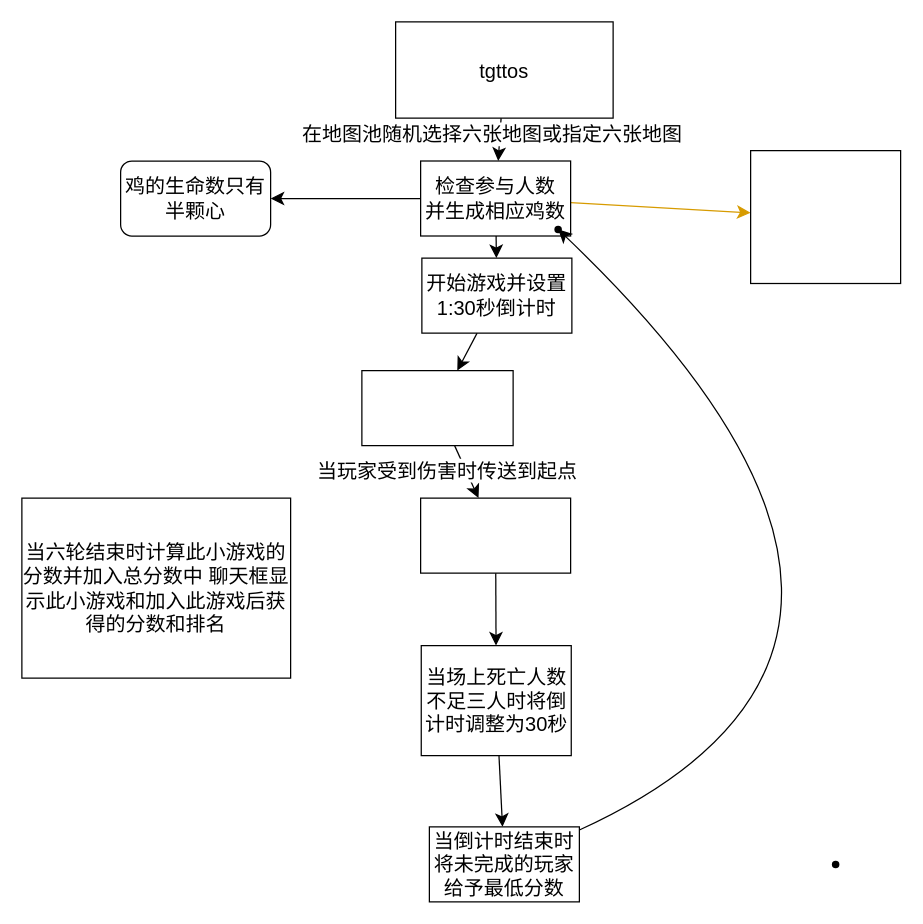
The diagram is 923 pixels wide and 924 high, and some of its shapes have lost their labels. Here are the shapes that lost their labels. From the top down, the centre of each, then its label:
At (825,216): "若遇到人数不够停止游戏直到管理强制开启或人数足够".
At (437,407): "检测鸡死亡和造成鸡死亡的人并排名".
At (495,535): "将已击杀鸡的玩家调整为旁观模式".
